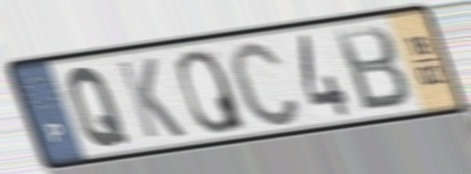4: (299, 31, 350, 119)
B: (330, 22, 414, 115)
C: (224, 37, 304, 130)
K: (113, 55, 189, 142)
Q: (173, 47, 250, 136), (65, 64, 133, 150)
